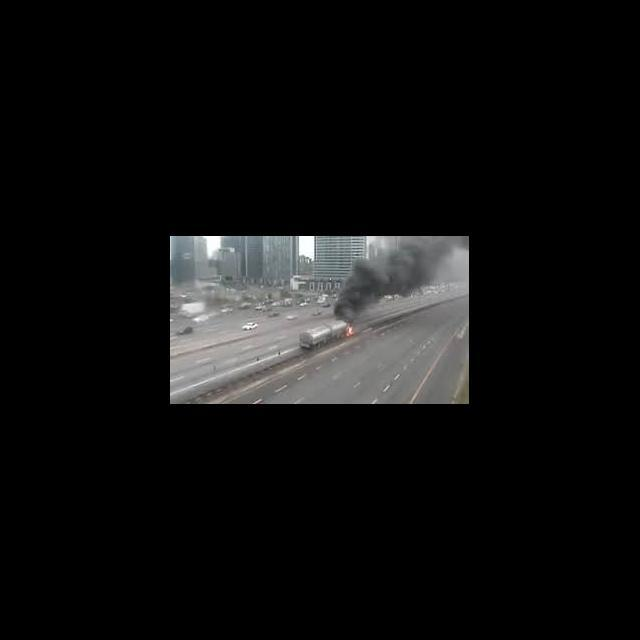Fire: (346, 324, 356, 337)
Smoke: (334, 237, 470, 320)
